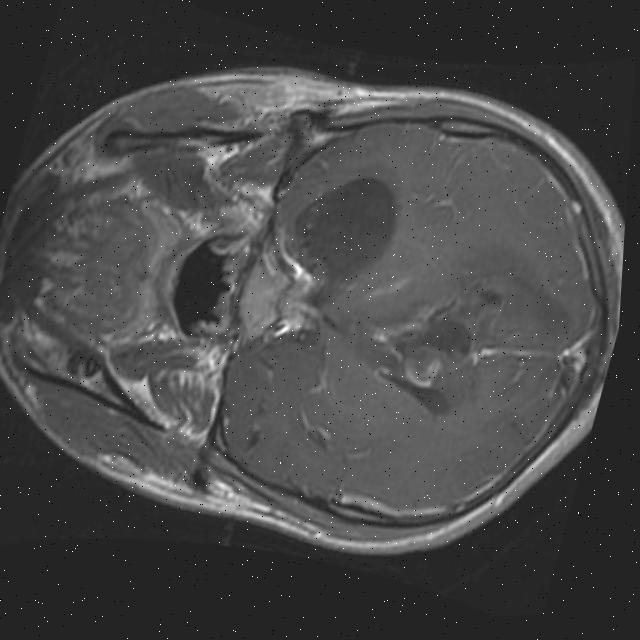Glioma: (385, 271, 506, 401)
Pituitary: (229, 250, 296, 343)
